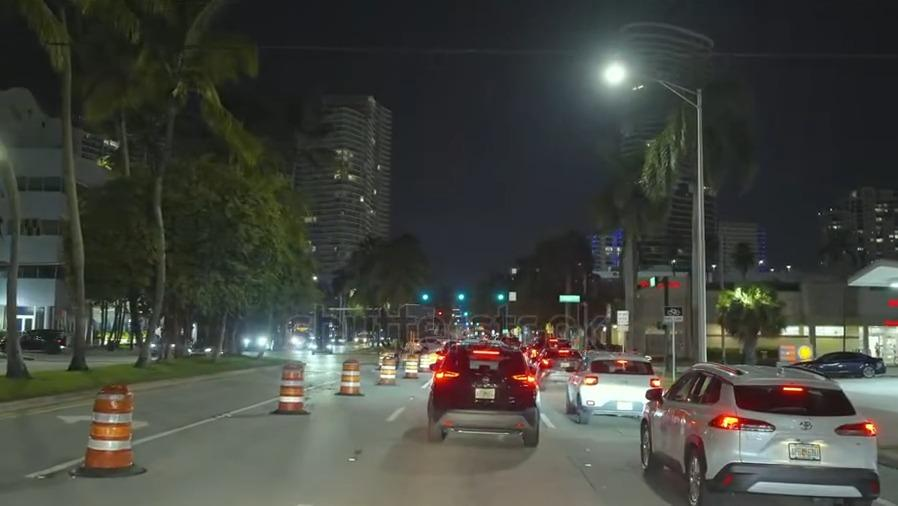car: (640, 363, 877, 504), (430, 340, 539, 440), (568, 349, 656, 418), (797, 347, 885, 379), (0, 328, 71, 353), (537, 346, 579, 382), (188, 337, 227, 359), (142, 338, 183, 355)
cone: (83, 379, 144, 470), (273, 359, 307, 414), (337, 356, 364, 395), (374, 353, 398, 385), (400, 352, 417, 378), (417, 352, 430, 369)
traffic light: (492, 286, 510, 303), (417, 289, 435, 305), (454, 289, 468, 305)
wheel: (681, 443, 708, 503), (639, 422, 658, 471)
